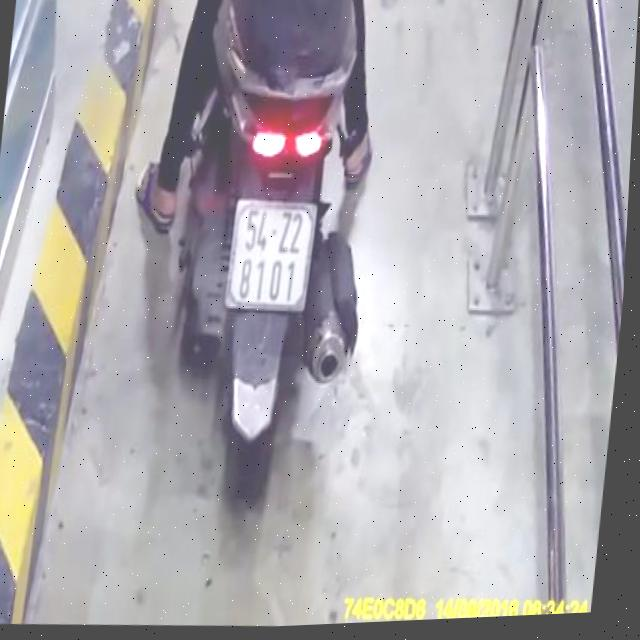motorcycle: (147, 0, 400, 518)
plate: (214, 188, 322, 317)
